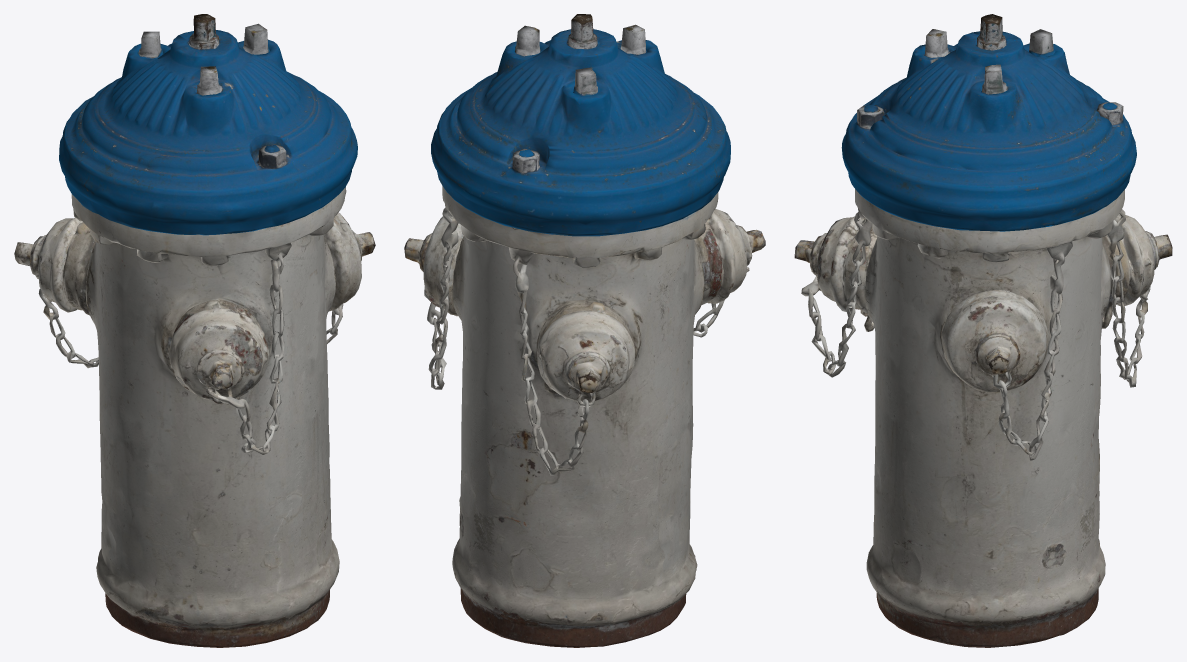
3 views of the same model, side by side, from view 1: azimuth 30°, elevation 25°; view 2: azimuth 150°, elevation 25°; view 3: azimuth 270°, elevation 25° (orthographic).
Parts seen in each view (by area): view 1: SM_uh4ocfafa; view 2: SM_uh4ocfafa; view 3: SM_uh4ocfafa.
Boxes of the visible parts, left/top/right/bottom form: SM_uh4ocfafa: left=14, top=14, right=375, bottom=647; SM_uh4ocfafa: left=404, top=14, right=765, bottom=647; SM_uh4ocfafa: left=794, top=14, right=1172, bottom=647.
Size of the model in its own units: 0.42 by 0.7916 by 0.4686.
1 material, 1 textured.
